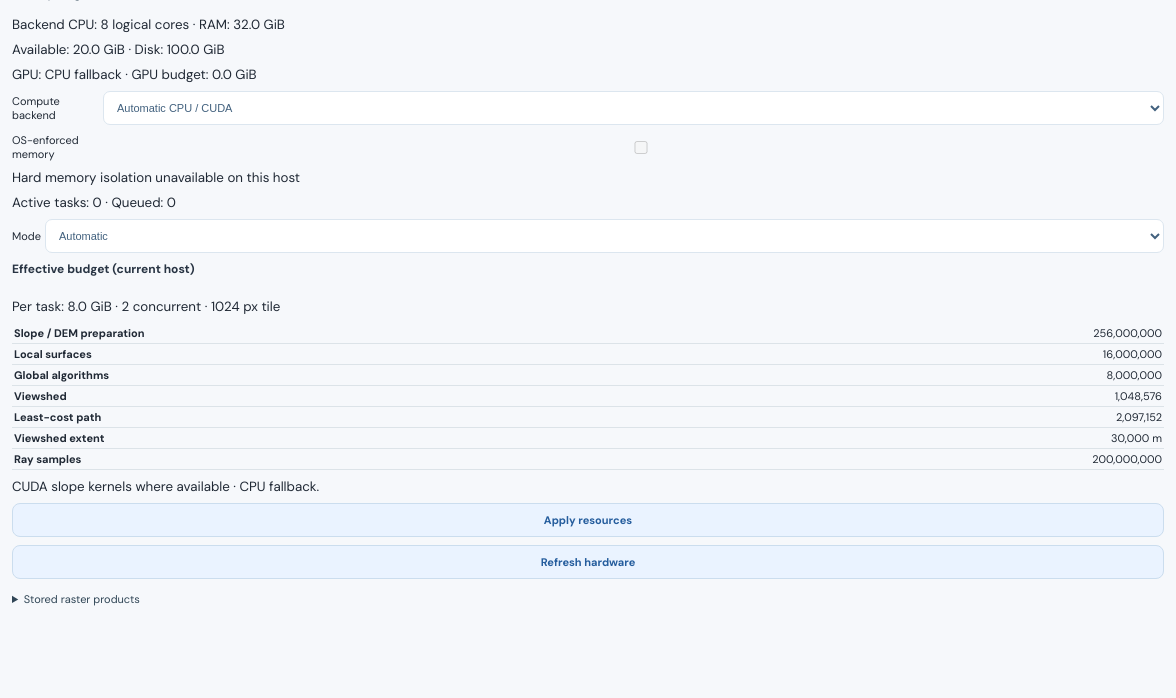
Test: loads actual backend hardware and exposes manual ceilings only when selected
This screenshot has width=1176, height=698.
Expected: the text "Backend CPU: 8 logical cores · RAM: 32.0 GiB" is shown, [12,16,285,33]
Expected: the table named "Effective terrain cell limits" shows "16,000,000", [1103,347,1162,361]
Select "Manual" in the dropdown named "Compute resource mode": (604, 236) [45,219,1164,253]
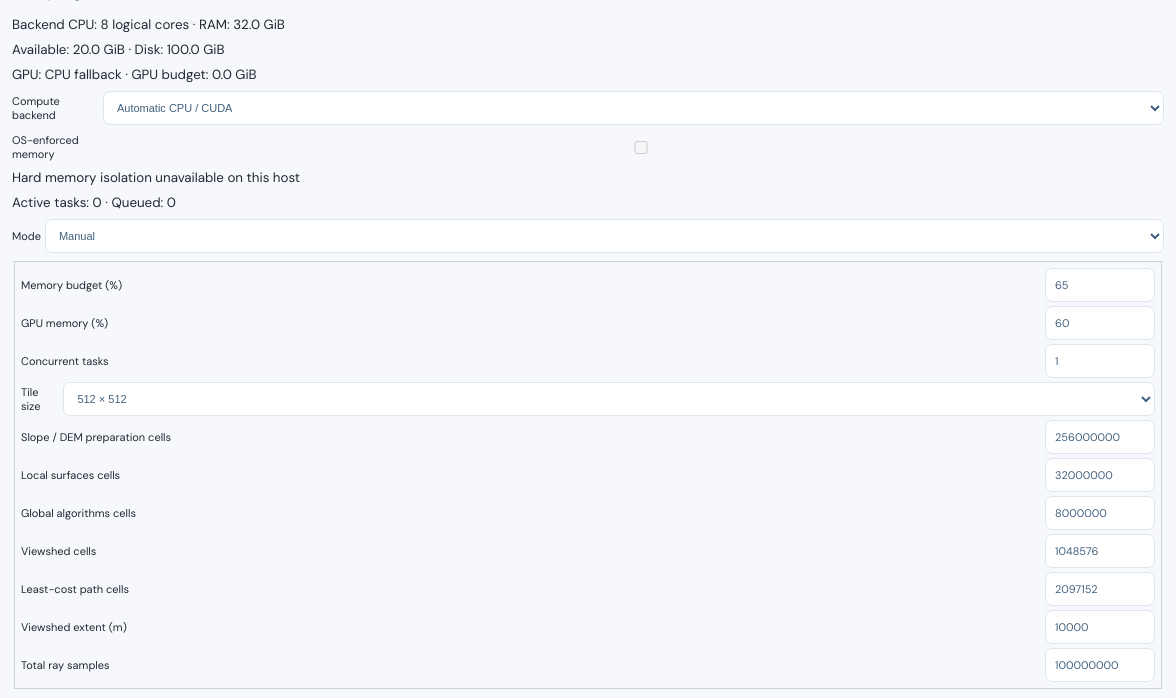
Replace the text in the number field named "Compute memory percent" with "40": (1100, 285) [1045,268,1155,302]
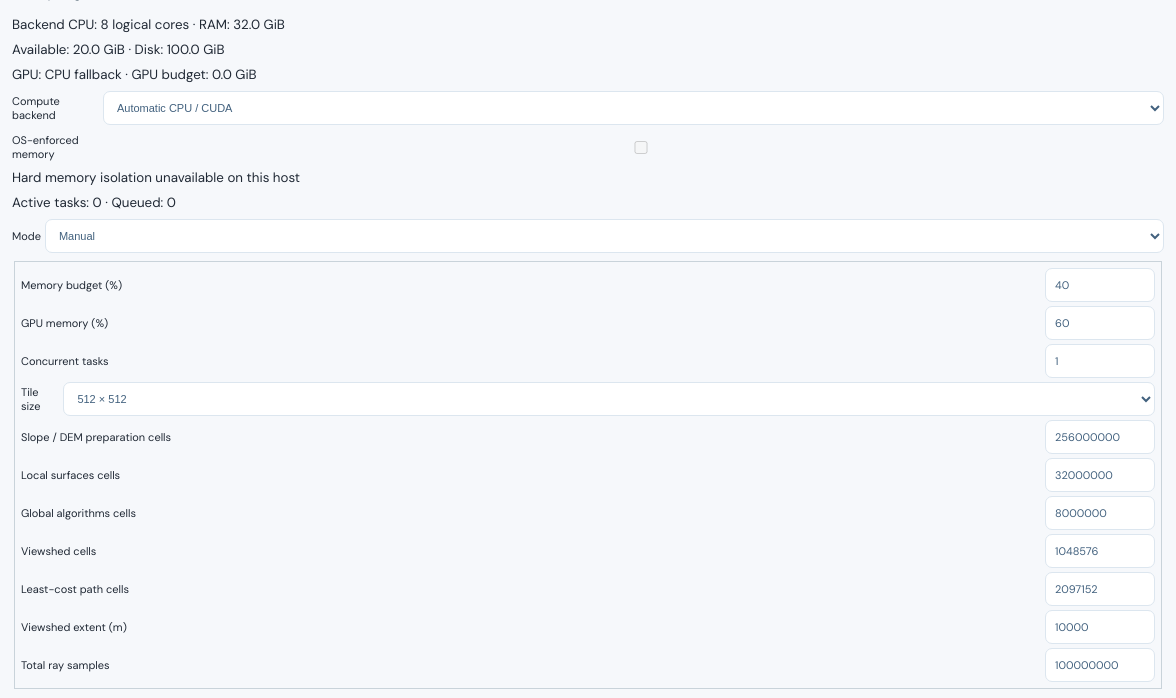
Select "128 × 128" in the dropdown named "Compute tile size": (609, 399) [63,382,1155,416]
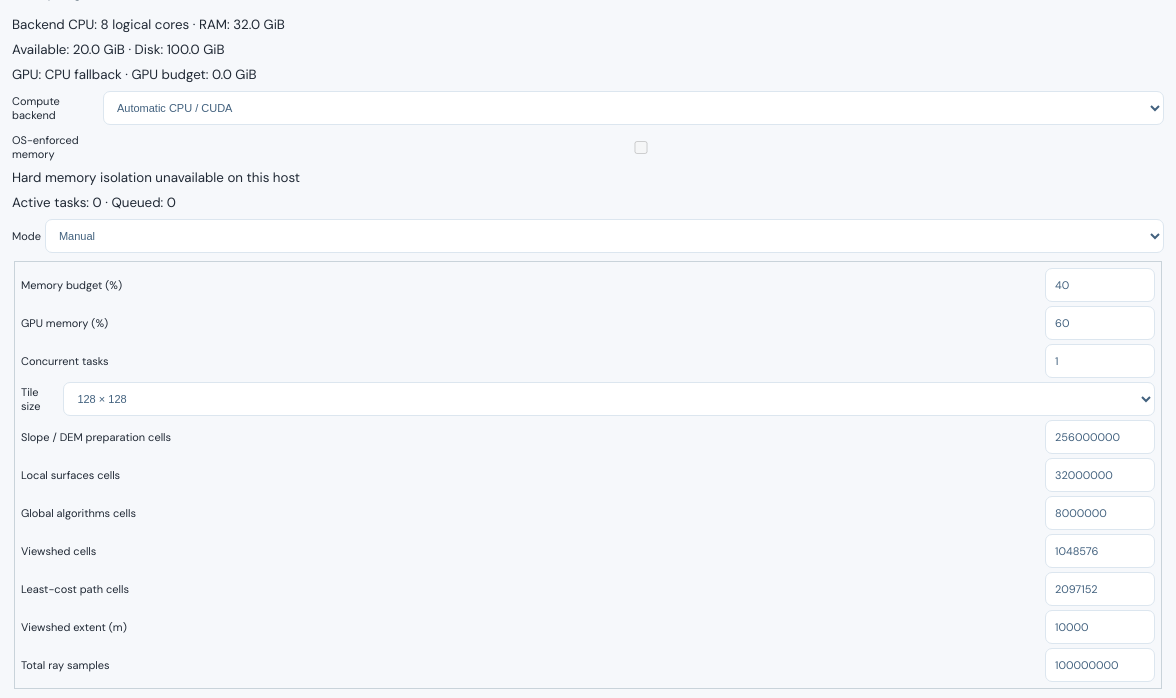
Replace the text in the number field named "Local surfaces cell ceiling" with "50000": (1100, 475) [1045,458,1155,492]
(page scrolled)
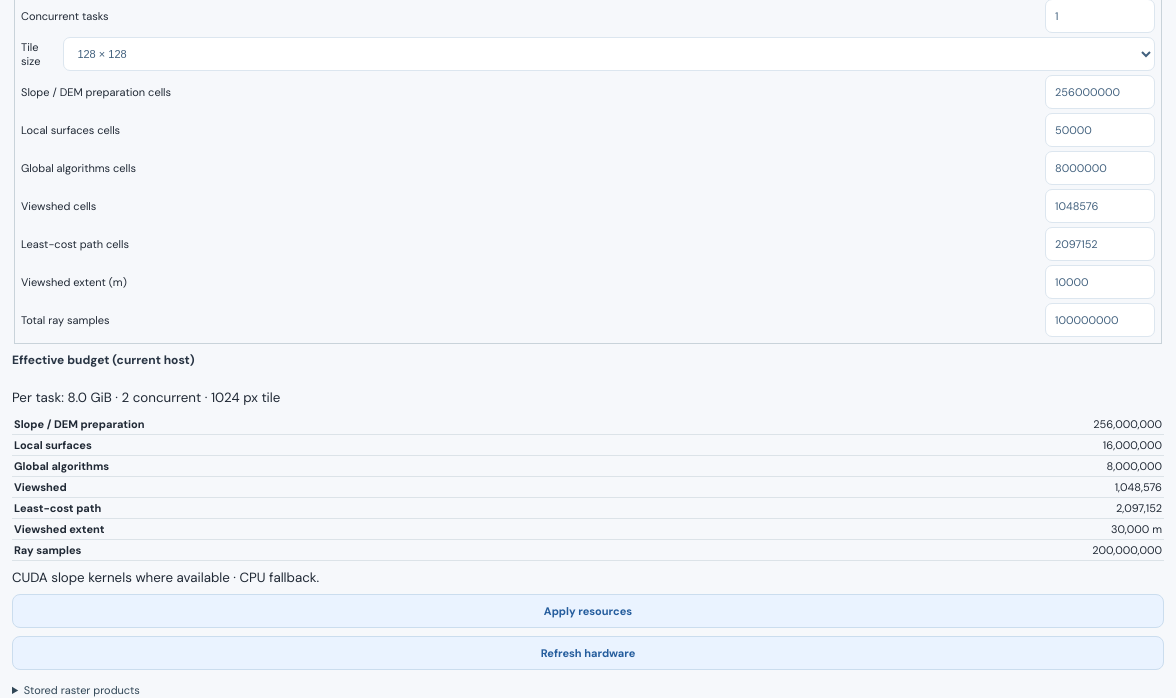
Click the button "Apply resources": (588, 611) [12,594,1164,628]
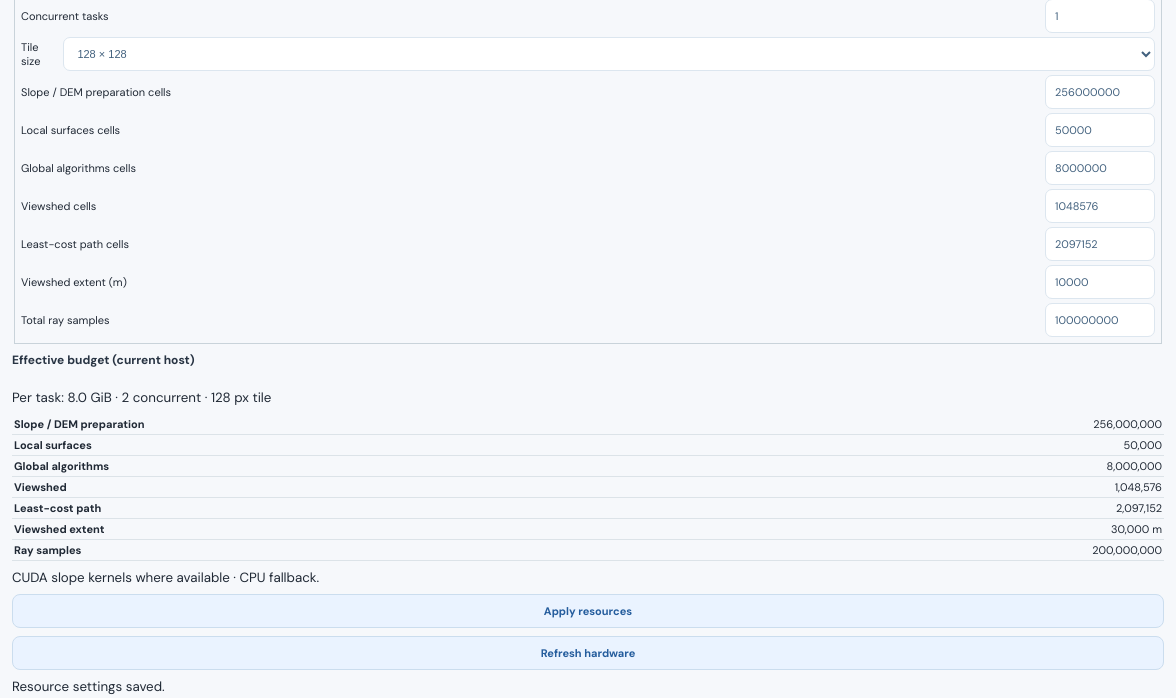
Expected: the message reads "Resource settings saved.", [12,678,165,695]
Expected: the table named "Effective terrain cell limits" shows "50,000", [1124,438,1162,452]
